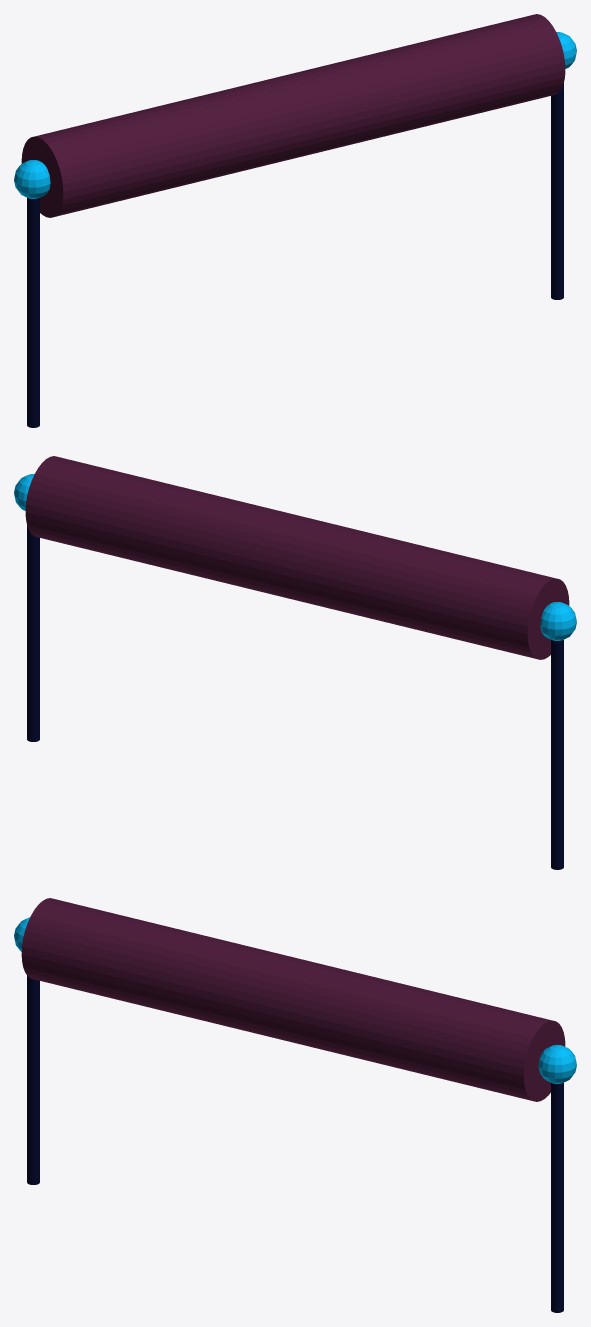
The model's file is ZAxe.fbx.
3 renders of one model, top to bottom at view 1: azimuth 30°, elevation 25°; view 2: azimuth 150°, elevation 25°; view 3: azimuth 330°, elevation 25°, orthographic.
Parts seen in each view (by area): view 1: Cylinder.001; view 2: Cylinder.001; view 3: Cylinder.001.
Boxes of the visible parts, x1,y1,x2,y2 form: Cylinder.001: [14, 14, 576, 427]; Cylinder.001: [14, 456, 576, 869]; Cylinder.001: [14, 898, 576, 1312].
Size of the model in its own units: 3278 by 1592 by 424.
